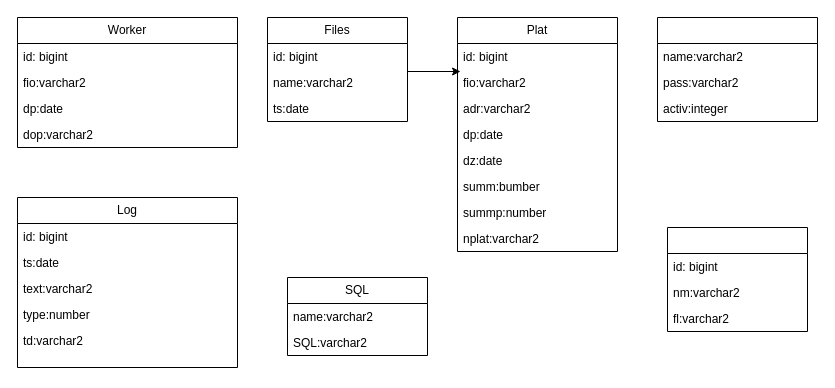
This 835x388 diagram has some shape labels left out. The shapes that lost their labels are listed below. From the top down, each one's box as (x1, y1, x2, y2) in pixels, then its label:
(656, 16, 818, 122): Usr
(666, 226, 808, 332): THlp
